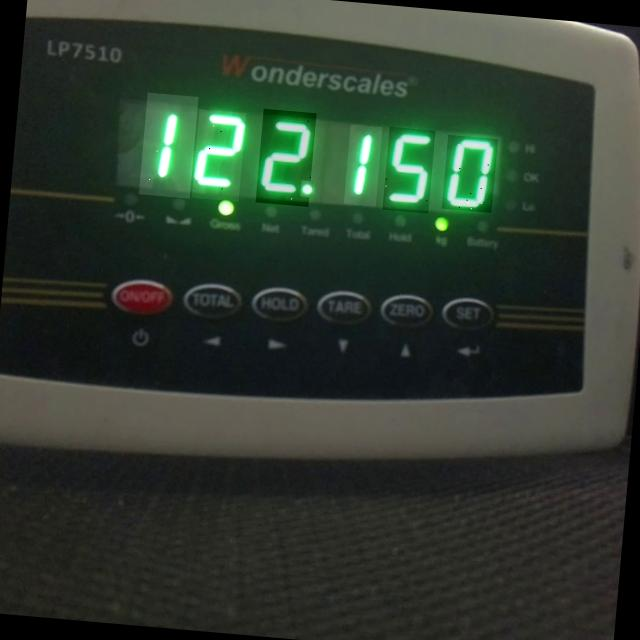.: (300, 180, 313, 197)
0: (442, 134, 498, 212)
1: (138, 92, 198, 198), (343, 124, 382, 206)
2: (255, 108, 316, 206), (192, 108, 246, 202)
5: (382, 126, 435, 213)
